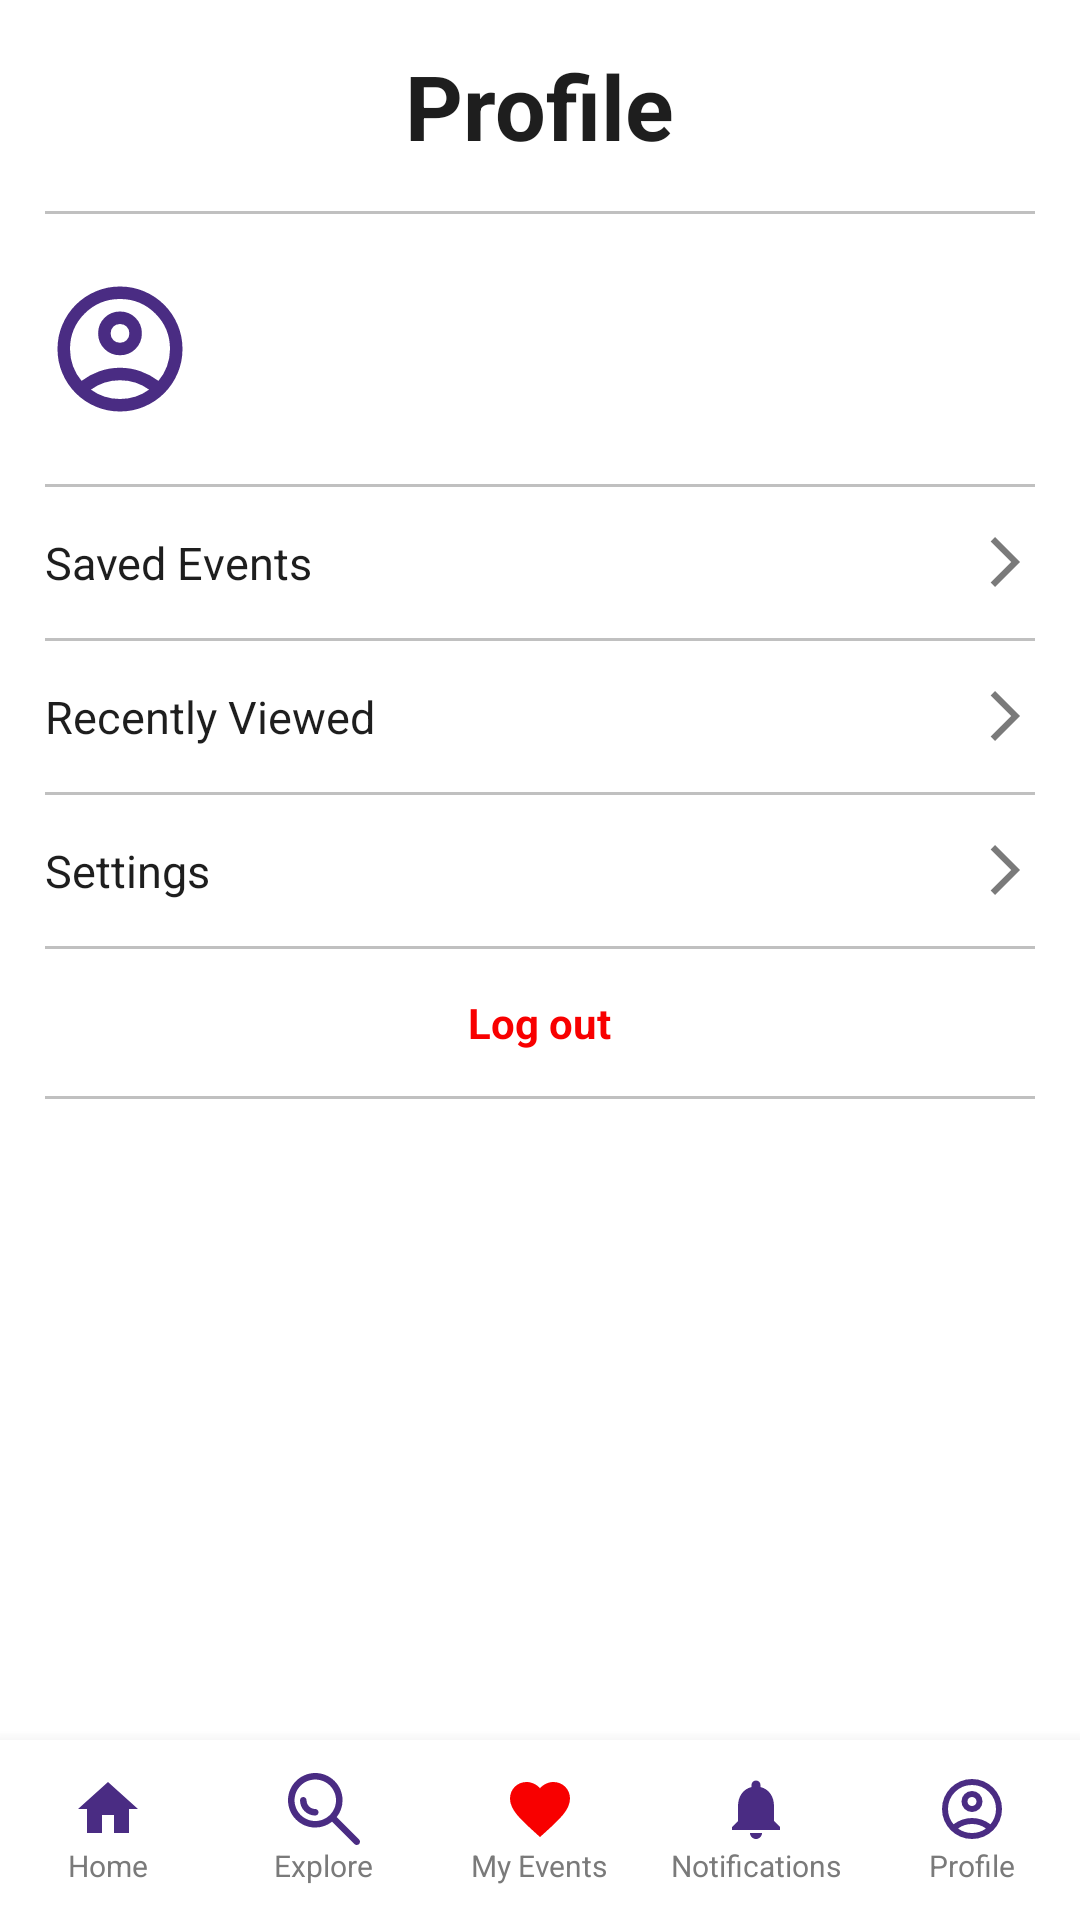

Screen size 1080×1920. Icon name, then its box in pixels as (x1, y1, x2, y2):
acount: (57, 286, 183, 412)
profile arrow: (991, 537, 1020, 587), (991, 691, 1020, 741), (991, 845, 1020, 895)
